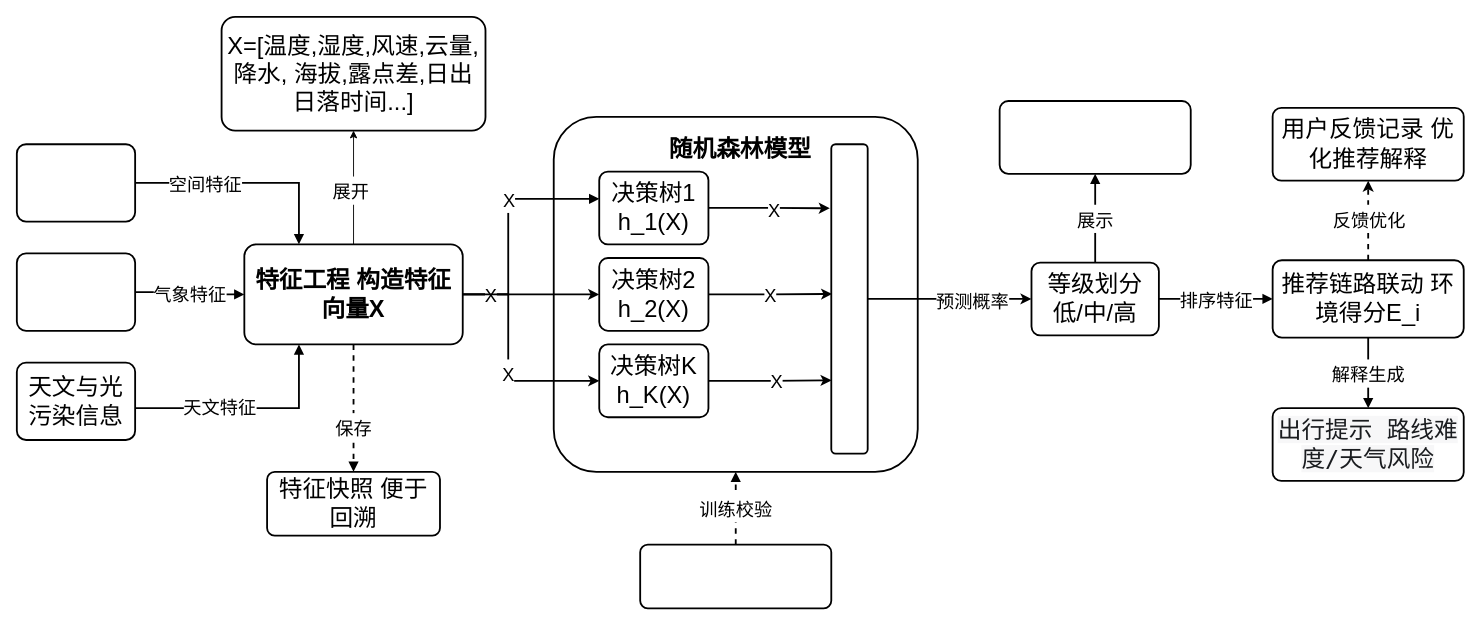
This 1480x624 diagram has some shape labels left out. Each missing label, with the centre of its shape:
"人工观测标签 训练与校验" goes at [735,576].
"天气信息" goes at [75,291].
"景观预测卡片 云海/雾凇/冰挂/日出" goes at [1094,137].
"概率平均" goes at [849,298].
"路线空间信息" goes at [75,182].
